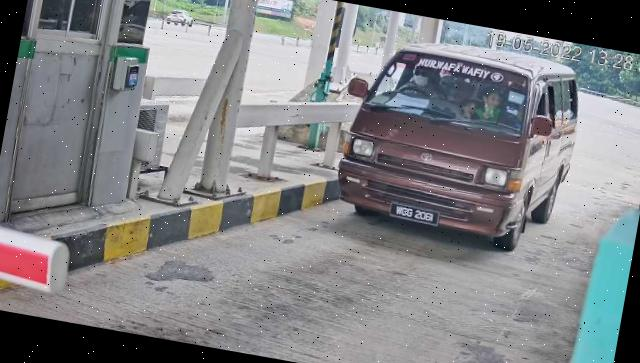License_Plate: (388, 202, 442, 229)
van: (331, 25, 590, 260)
